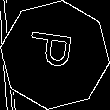P_E: (27, 33, 83, 77)
